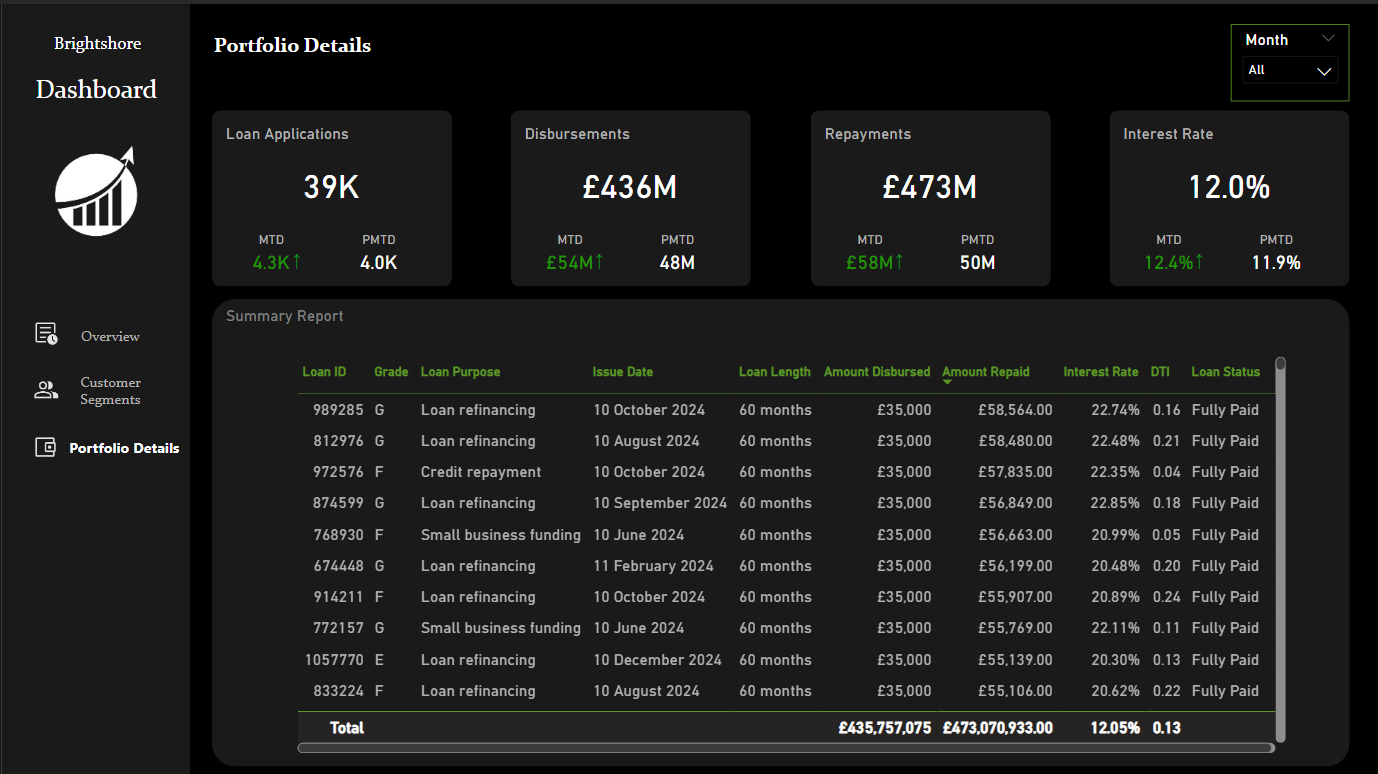

Layout of this report page (visuals, bound fields, positions):
{"tool":"powerbi","page":{"name":"Portfolio Details","canvas":[1280,720],"ordinal":2},"visuals":[{"type":"shape","box":[0,0,175.6,719.8],"z":0},{"type":"shape","box":[195.3,98.3,223.3,164],"z":0,"group":"g1"},{"type":"shape","box":[473.6,98.3,223.3,164],"z":0,"group":"g2"},{"type":"shape","box":[751.9,98.3,223.3,164],"z":0,"group":"g3"},{"type":"group","id":"g1","title":"Group 1","box":[195.3,98.3,223.3,165.1],"z":1000},{"type":"shape","box":[1030.2,98.3,223.3,164],"z":1000,"group":"g4"},{"type":"card","title":"Disbursements","fields":{"Values":["Sum(Brightshore.loan_amount)"]},"box":[481.7,111.1,205.8,100],"z":1000,"group":"g2"},{"type":"card","title":"Repayments","fields":{"Values":["Sum(Brightshore.total_payment)"]},"box":[760,111.1,205.8,100],"z":1000,"group":"g3"},{"type":"group","id":"g2","title":"Group 2","box":[473.6,98.3,223.3,165.1],"z":2000},{"type":"card","title":"Interest Rate","fields":{"Values":["Avg(Brightshore.int_rate)"]},"box":[1038.3,111.1,205.8,100],"z":2000,"group":"g4"},{"type":"card","title":"MTD","fields":{"Values":["Measures (2).Disbursement MTD"]},"box":[481.7,211.1,94.2,38.4],"z":2000,"group":"g2"},{"type":"card","title":"MTD","fields":{"Values":["Measures (2).Repayments_MTD"]},"box":[760,211.1,94.2,38.4],"z":2000,"group":"g3"},{"type":"group","id":"g3","title":"Group 3","box":[751.9,98.3,223.3,165.1],"z":3000},{"type":"card","title":"Loan Applications","fields":{"Values":["CountNonNull(Brightshore.Loan_id)"]},"box":[203.4,111.1,205.8,100],"z":3000,"group":"g1"},{"type":"card","title":"PMTD ","fields":{"Values":["Measures (2).Disburse_PMTD"]},"box":[581.7,211.1,94.2,38.4],"z":3000,"group":"g2"},{"type":"card","title":"PMTD ","fields":{"Values":["Measures (2).Repayments_PMTD"]},"box":[860,211.1,94.2,38.4],"z":3000,"group":"g3"},{"type":"card","title":"MTD","fields":{"Values":["Measures (2).int_rate MTD"]},"box":[1038.3,211.1,94.2,38.4],"z":3000,"group":"g4"},{"type":"group","id":"g4","title":"Group 4","box":[1030.2,98.3,223.3,165.1],"z":4000},{"type":"card","title":"PMTD ","fields":{"Values":["Measures (2).int_rate PMTD"]},"box":[1138.3,211.1,94.2,38.4],"z":4000,"group":"g4"},{"type":"card","title":"Loan Applications","fields":{"Values":["Measures (2).Loan_Icon"]},"box":[796.3,213.4,76.7,50],"z":4000,"group":"g3"},{"type":"card","title":"Loan Applications","fields":{"Values":["Measures (2).Loan_Icon"]},"box":[517.3,213.6,76.7,50],"z":4000,"group":"g2"},{"type":"card","title":"Loan Applications","fields":{"Values":["Measures (2).Loan_Icon"]},"box":[1075.5,213.2,76.7,50],"z":5000,"group":"g4"},{"type":"shape","box":[195.3,274.4,1058.1,434.9],"z":5000},{"type":"textbox","box":[203.5,275.6,129.1,33.7],"z":6000},{"type":"textbox","title":"Brightshore","box":[9.3,26.7,159.3,54.7],"z":7000},{"type":"textbox","title":"Dashboard","box":[0,64,175.6,57],"z":8000},{"type":"textbox","title":"Portfolio Details","box":[190.7,26.7,159.3,54.7],"z":9000},{"type":"card","title":"MTD","fields":{"Values":["Measures (2).Loan_MTD"]},"box":[203.4,211.1,94.2,38.4],"z":9000,"group":"g1"},{"type":"image","box":[0,96.5,175.6,152.3],"z":10000},{"type":"card","title":"PMTD ","fields":{"Values":["Brightshore.Loan_PMTD"]},"box":[303.4,211.1,94.2,38.4],"z":10000,"group":"g1"},{"type":"card","title":"Loan Applications","fields":{"Values":["Measures (2).Loan_Icon"]},"box":[236,213.4,76.7,50],"z":11000,"group":"g1"},{"type":"image","box":[0,288.4,80.2,34.9],"z":11000},{"type":"image","box":[1.2,341.9,80.2,33.7],"z":12000},{"type":"image","box":[0,395.3,80.2,33.7],"z":13000},{"type":"slicer","fields":{"Values":["Date Table.Month Name"]},"box":[1143,18.6,110.5,72.1],"z":14000},{"type":"pageNavigator","box":[46.5,283.7,109.3,50],"z":15000},{"type":"pageNavigator","box":[46.5,334.9,109.3,50],"z":16000},{"type":"pageNavigator","box":[59.3,387.2,109.3,50],"z":17000},{"type":"tableEx","title":"Loan Portfolio Summary","fields":{"Values":["Brightshore.Loan_id","Brightshore.grade","Brightshore.purpose","Brightshore.issue_date","Brightshore.term","Measures (2).Disbursements","Measures (2).Repayments","Measures (2).Interest Rate","Avg(Brightshore.dti)","Brightshore.loan_status"]},"box":[268.6,323.3,930.2,373.3],"z":18000}]}

Visuals, with their boxes on the page's 1280x720 design canvas (x1, y1, x2, y2). These are canvas units, not pixel positions in the 1378x774 screenshot, which may show the page scaled, cropped or inside an application window:
shape: crop(0, 0, 176, 720)
shape: crop(195, 98, 419, 262)
shape: crop(474, 98, 697, 262)
shape: crop(752, 98, 975, 262)
"Group 1" group: crop(195, 98, 419, 263)
shape: crop(1030, 98, 1254, 262)
"Disbursements" card: crop(482, 111, 688, 211)
"Repayments" card: crop(760, 111, 966, 211)
"Group 2" group: crop(474, 98, 697, 263)
"Interest Rate" card: crop(1038, 111, 1244, 211)
"MTD" card: crop(482, 211, 576, 250)
"MTD" card: crop(760, 211, 854, 250)
"Group 3" group: crop(752, 98, 975, 263)
"Loan Applications" card: crop(203, 111, 409, 211)
"PMTD " card: crop(582, 211, 676, 250)
"PMTD " card: crop(860, 211, 954, 250)
"MTD" card: crop(1038, 211, 1132, 250)
"Group 4" group: crop(1030, 98, 1254, 263)
"PMTD " card: crop(1138, 211, 1232, 250)
"Loan Applications" card: crop(796, 213, 873, 263)
"Loan Applications" card: crop(517, 214, 594, 264)
"Loan Applications" card: crop(1076, 213, 1152, 263)
shape: crop(195, 274, 1253, 709)
textbox: crop(204, 276, 333, 309)
"Brightshore" textbox: crop(9, 27, 169, 81)
"Dashboard" textbox: crop(0, 64, 176, 121)
"Portfolio Details" textbox: crop(191, 27, 350, 81)
"MTD" card: crop(203, 211, 298, 250)
image: crop(0, 96, 176, 249)
"PMTD " card: crop(303, 211, 398, 250)
"Loan Applications" card: crop(236, 213, 313, 263)
image: crop(0, 288, 80, 323)
image: crop(1, 342, 81, 376)
image: crop(0, 395, 80, 429)
slicer - Date Table.Month Name: crop(1143, 19, 1254, 91)
pageNavigator: crop(46, 284, 156, 334)
pageNavigator: crop(46, 335, 156, 385)
pageNavigator: crop(59, 387, 169, 437)
"Loan Portfolio Summary" tableEx: crop(269, 323, 1199, 697)
